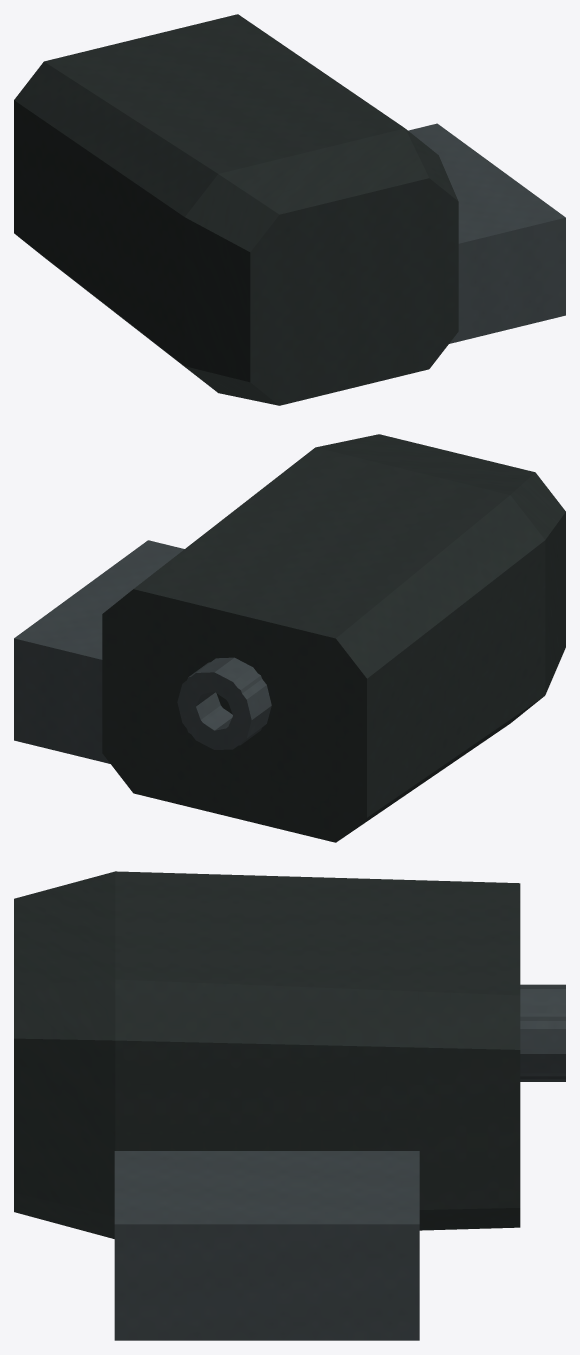
The model's file is laser.glb.
3 renders of one model, top to bottom at view 1: azimuth 30°, elevation 25°; view 2: azimuth 150°, elevation 25°; view 3: azimuth 270°, elevation 25°, orthographic. The views are drawn at different scales.
Visible parts, largest first — view 1: laser_asymmetric_emitter_housing, laser_external_emitter_rim; view 2: laser_asymmetric_emitter_housing, laser_external_emitter_rim, laser_external_emitter_rim.001; view 3: laser_asymmetric_emitter_housing, laser_external_emitter_rim.
Part boxes in pixels (x1,y1,x2,y2): laser_asymmetric_emitter_housing: (14, 14, 458, 405); laser_external_emitter_rim: (408, 123, 565, 343); laser_asymmetric_emitter_housing: (102, 434, 565, 842); laser_external_emitter_rim: (14, 540, 271, 763); laser_external_emitter_rim.001: (177, 662, 261, 749); laser_asymmetric_emitter_housing: (14, 871, 520, 1238); laser_external_emitter_rim: (114, 984, 565, 1340).
Bounding box in the file's own units: 0.0855 × 0.0485 × 0.0905.
2 materials, 2 textured.
